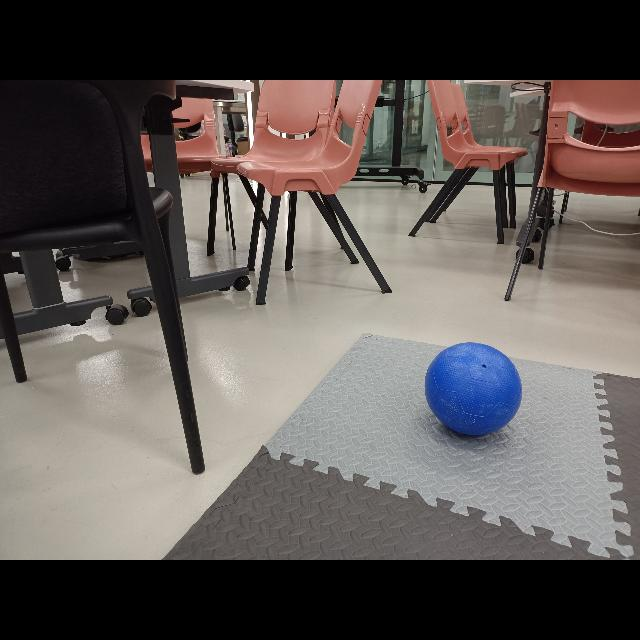B: (424, 342, 522, 436)
